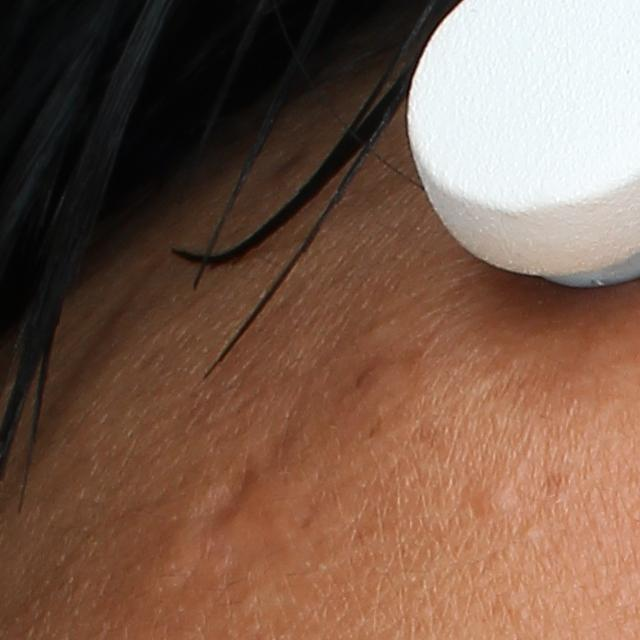atrophic_scar: (189, 460, 273, 544)
comedo: (469, 482, 519, 523), (518, 520, 538, 541)
